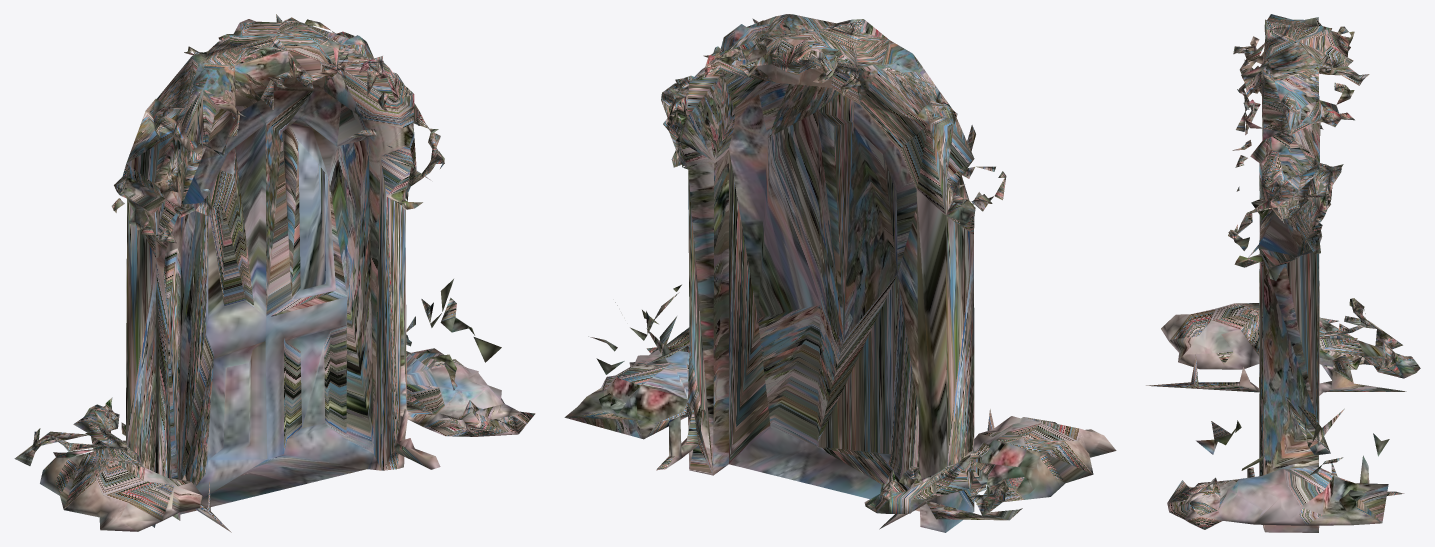
Rendered from _Object_Charmi.glb.
3 renders of one model, left to right at view 1: azimuth 30°, elevation 25°; view 2: azimuth 150°, elevation 25°; view 3: azimuth 270°, elevation 25°, orthographic. The views are drawn at different scales.
Visible parts, largest first — view 1: _Object_Charmi; view 2: _Object_Charmi; view 3: _Object_Charmi.
Part boxes in pixels (bbox=[...]): _Object_Charmi: bbox=[14, 14, 535, 532]; _Object_Charmi: bbox=[564, 14, 1116, 532]; _Object_Charmi: bbox=[1146, 14, 1420, 532].
Bounding box in the file's own units: 1.88 × 1.8 × 1.01.
Materials: 1 (1 with a texture image).
